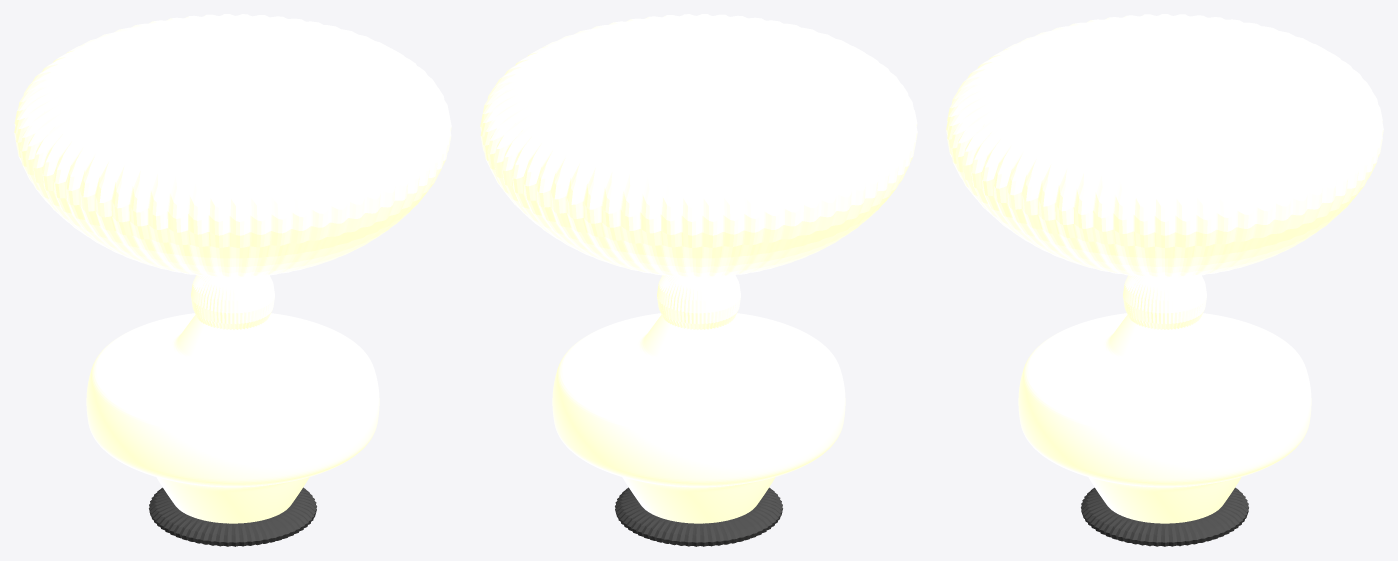
The picture shows the model from 3 angles, left to right: view 1: azimuth 30°, elevation 25°; view 2: azimuth 150°, elevation 25°; view 3: azimuth 270°, elevation 25°; orthographic projection.
Parts seen in each view (by area): view 1: Glass_Shade, Glass_Bulb, Metal_Base, Glass_Neck; view 2: Glass_Shade, Glass_Bulb, Metal_Base, Glass_Neck; view 3: Glass_Shade, Glass_Bulb, Metal_Base, Glass_Neck.
Boxes of the visible parts, <box> form: Glass_Shade: <box>14,14,451,277</box>; Glass_Bulb: <box>86,313,379,523</box>; Metal_Base: <box>149,487,316,546</box>; Glass_Neck: <box>191,275,274,329</box>; Glass_Shade: <box>480,14,917,277</box>; Glass_Bulb: <box>552,313,845,523</box>; Metal_Base: <box>615,487,782,546</box>; Glass_Neck: <box>657,275,740,329</box>; Glass_Shade: <box>946,14,1383,277</box>; Glass_Bulb: <box>1018,313,1311,523</box>; Metal_Base: <box>1081,487,1248,546</box>; Glass_Neck: <box>1123,275,1206,329</box>.
Bounding box in the file's own units: 2.46 × 2.89 × 2.46.
